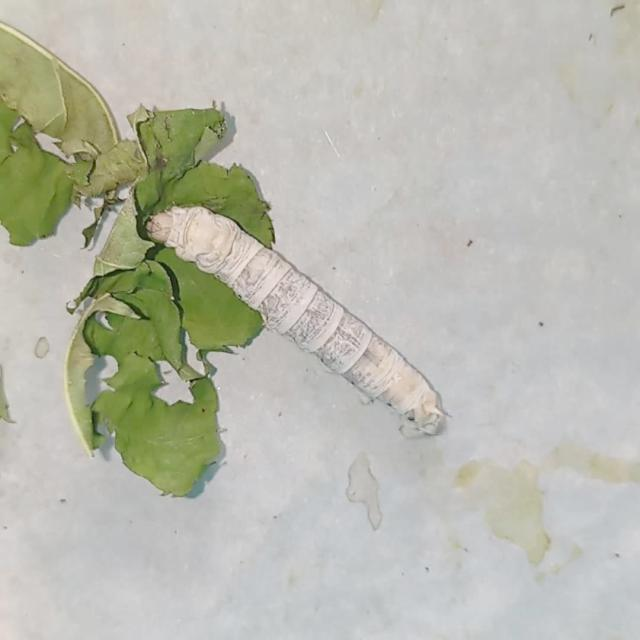Grasserie: (140, 185, 460, 442)
